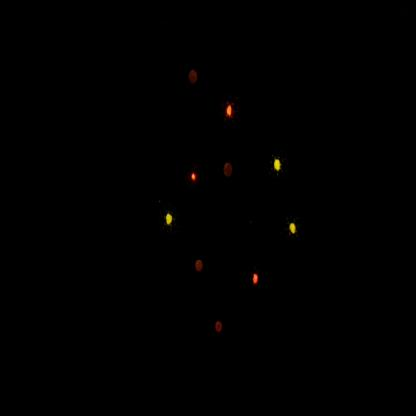PE: (284, 214, 302, 252), (268, 149, 287, 184), (164, 203, 180, 239)
PS: (209, 310, 228, 347), (220, 155, 238, 184), (192, 253, 210, 278), (188, 62, 202, 90)
PVC: (245, 259, 266, 300), (222, 96, 239, 127), (185, 163, 203, 192)
